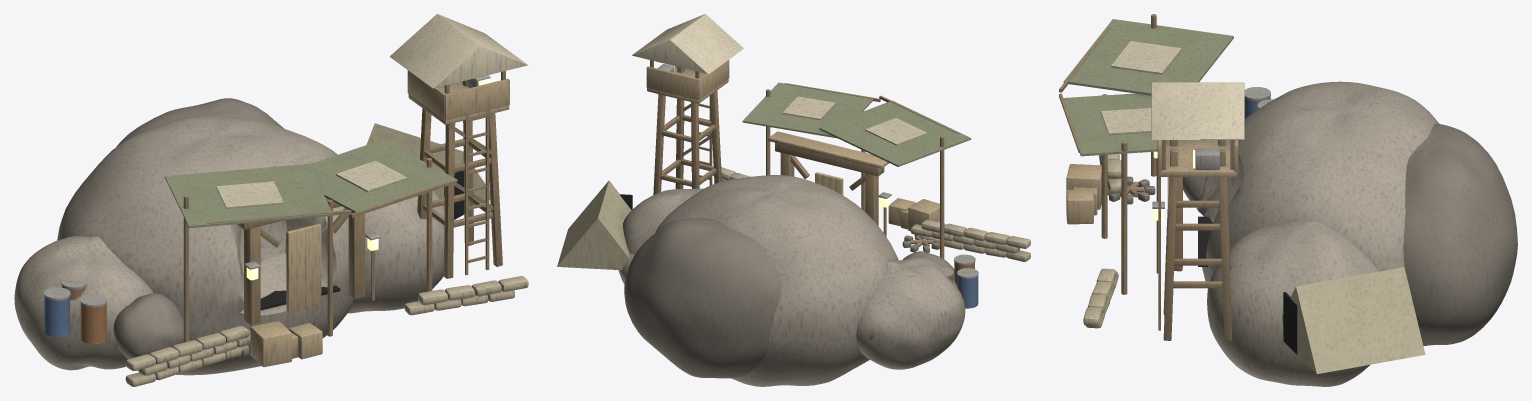
Rendered from shadow_hq.glb.
3 renders of one model, left to right at view 1: azimuth 30°, elevation 25°; view 2: azimuth 150°, elevation 25°; view 3: azimuth 270°, elevation 25°, orthographic. The views are drawn at different scales.
Visible parts, largest first — view 1: Hull; view 2: Hull; view 3: Hull.
Boxes of the visible parts, box(x1,y1,x2,y2) form: Hull: box(14, 14, 528, 386); Hull: box(557, 14, 1030, 386); Hull: box(1059, 14, 1517, 386).
Size of the model in its own units: 11.86 by 8.01 by 9.35.
13 materials, 13 textured.
